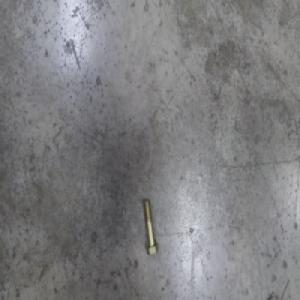Bolt: (141, 199, 159, 257)
